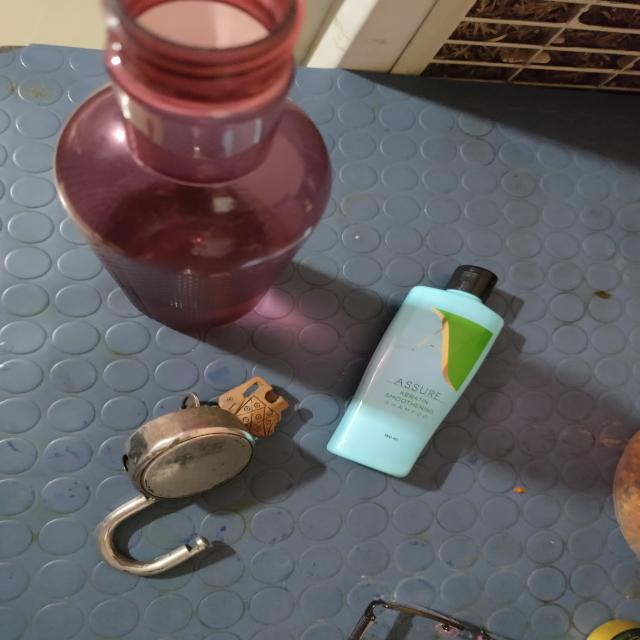dry: (17, 0, 354, 338), (77, 371, 307, 576), (356, 232, 498, 486)
